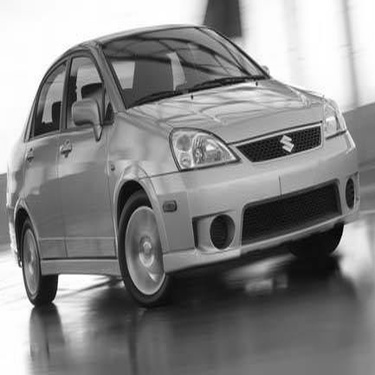car: (1, 17, 365, 310)
